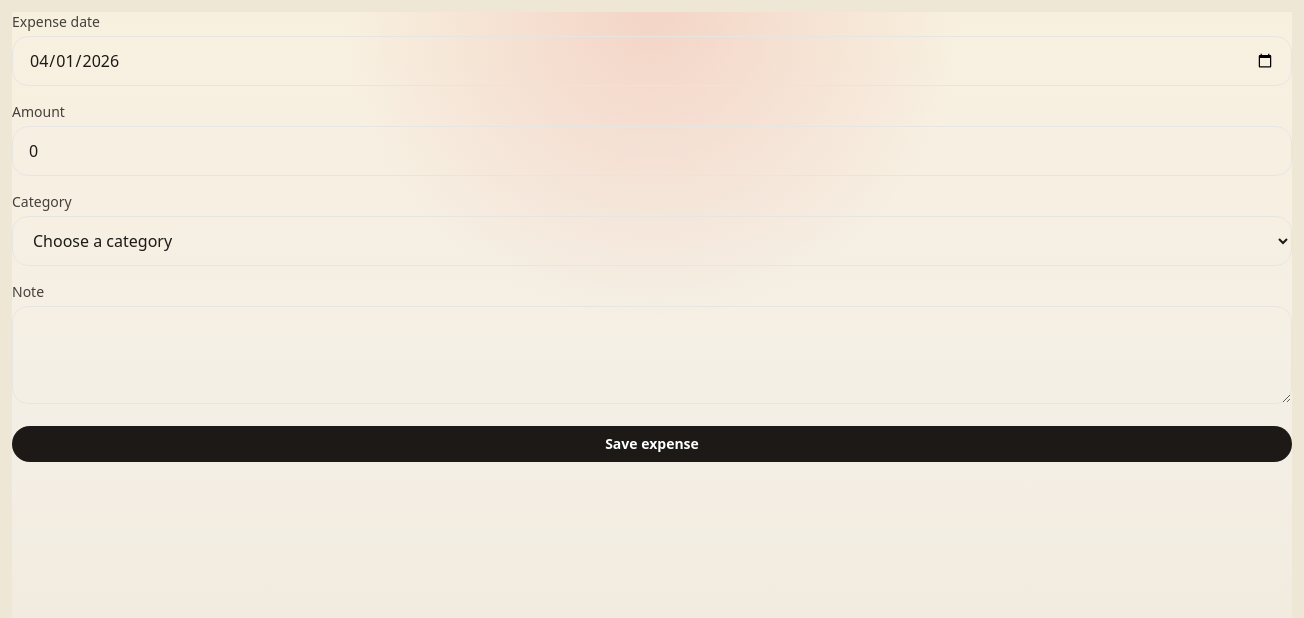
Test: ExpenseForm › shows validation errors for invalid submission
Click the button "Save expense" at (652, 444), box [12,426,1292,462]
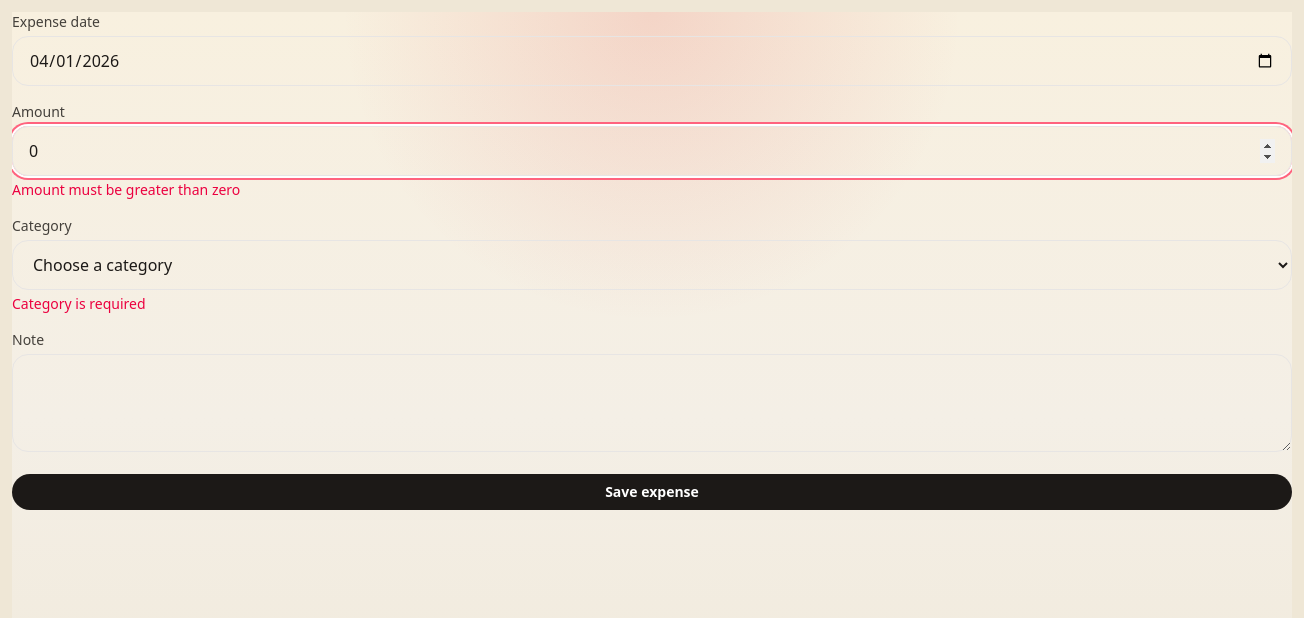
Now the text "Amount must be greater than zero" is shown, box [12,180,240,199]
